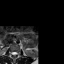CCS_normal: (13, 49, 15, 57)
LFS_normal: (17, 50, 18, 56)
LLS_normal: (15, 50, 17, 56)
RFS_normal: (9, 49, 11, 56)
RLS_normal: (11, 50, 13, 56)
